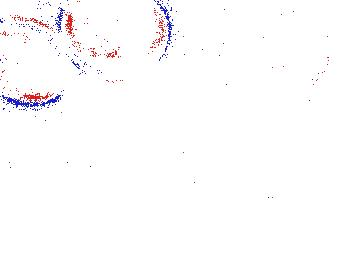moon jellyfish: (60, 1, 170, 83), (213, 1, 291, 87), (1, 19, 69, 105)
